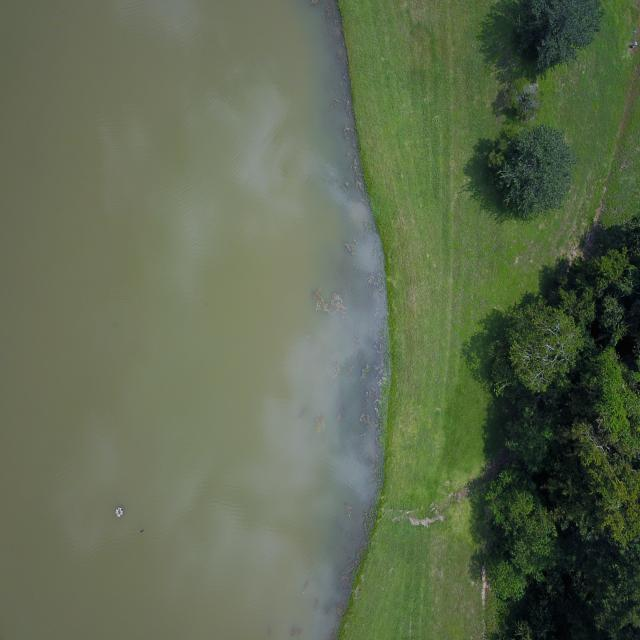fire: (0, 1, 390, 639)
